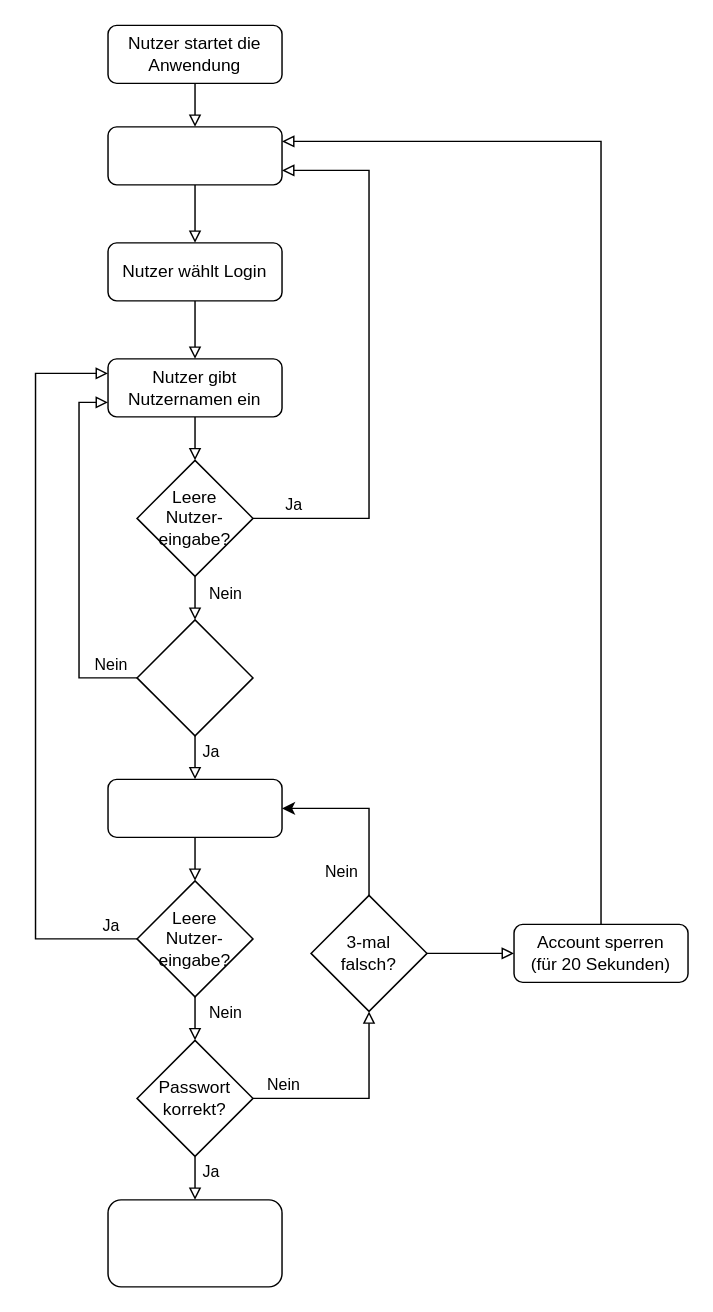
Some shapes in this 713 by 1312 pixel diagram are drawn without their labels. Here are the shapes that lost their labels. From the top down, the centre of each, then its label:
the point at 194,155: Nutzer befindet sich im Startmenü
the point at 194,677: Gültiger Benutzer-name?
the point at 194,807: Nutzer gibt Passwort ein
the point at 194,1242: Nutzer erfolgreich eingeloggt - befindet sich jetzt im Hauptmenü
